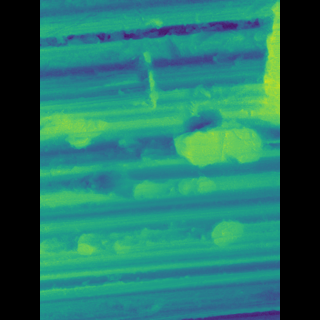Loch: (167, 115, 239, 172), (221, 0, 252, 116), (138, 172, 202, 204), (76, 108, 121, 152), (196, 218, 224, 251), (97, 231, 114, 256)
